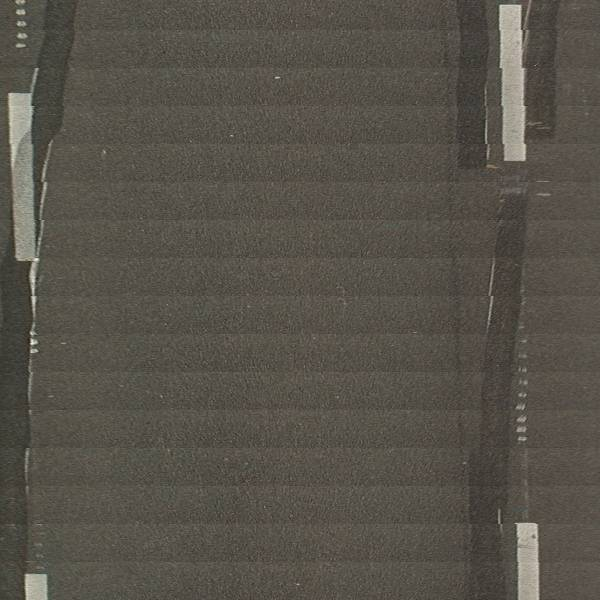road_damage: (450, 1, 492, 171)
